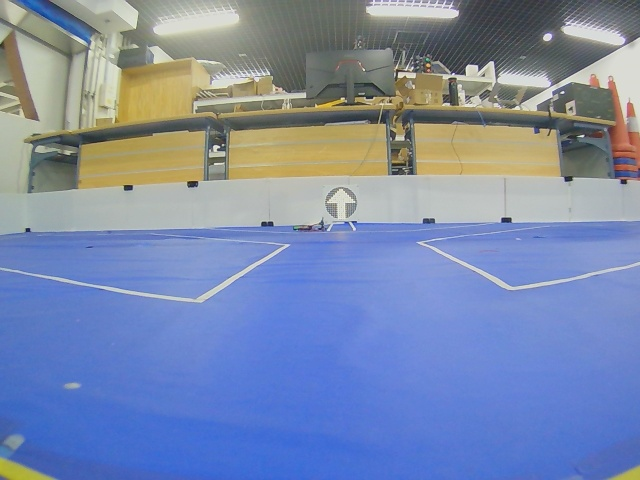straight_yellow: (324, 187, 358, 221)
